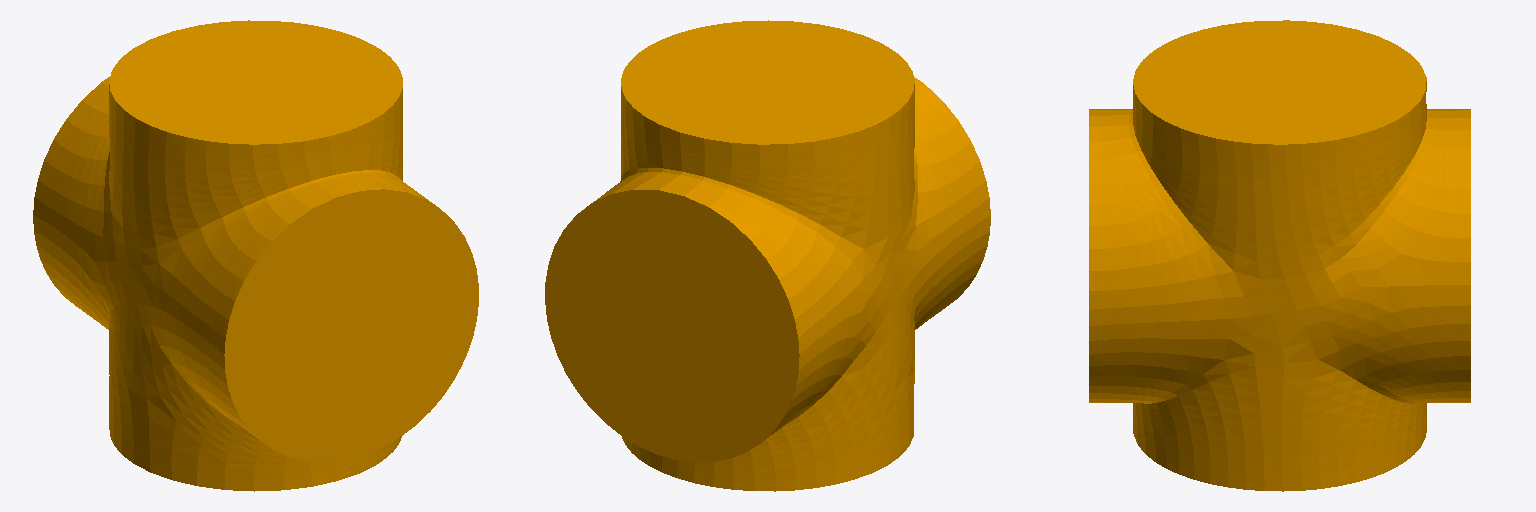
URDF robot description (object):
<robot name="object">
  <link name="object">
    <visual>
      <origin xyz="0 0 0"/>
      <geometry>
        <mesh filename="visual.obj" scale="1 1 1"/>
      </geometry>
    </visual>
    <collision>
      <origin xyz="0 0 0"/>
      <geometry>
        <mesh filename="visual.obj" scale="1 1 1"/>
      </geometry>
    </collision>
    <inertial>
      <mass value="0.05"/>
      <inertia ixx="6.456859577201906e-05" iyy="5.085491477640076e-05" izz="5.086074638575586e-05" ixy="8.40852563030278e-10" ixz="-2.1174362187354595e-10" iyz="8.509226690230097e-09"/>
    </inertial>
  </link>
</robot>

--- Facts derived from the render (not from the file) ---
Views: 3 orthographic renders of the robot side by side, from view 1: azimuth 30°, elevation 25°; view 2: azimuth 150°, elevation 25°; view 3: azimuth 270°, elevation 25°.
Model object with 1 links and 0 joints (none), rooted at object, posed all joints at 0.
Links seen in each view (by area): view 1: object; view 2: object; view 3: object.
Link boxes in pixels (x1,y1,x2,y2): object: [33, 20, 478, 491]; object: [545, 20, 990, 491]; object: [1089, 20, 1470, 491].
Bounding box of the posed robot: 0.0738 × 0.096 × 0.096 m (x, y, z).
Meshes: 1 distinct files referenced, 1 mesh visuals loaded (1 OBJ).
